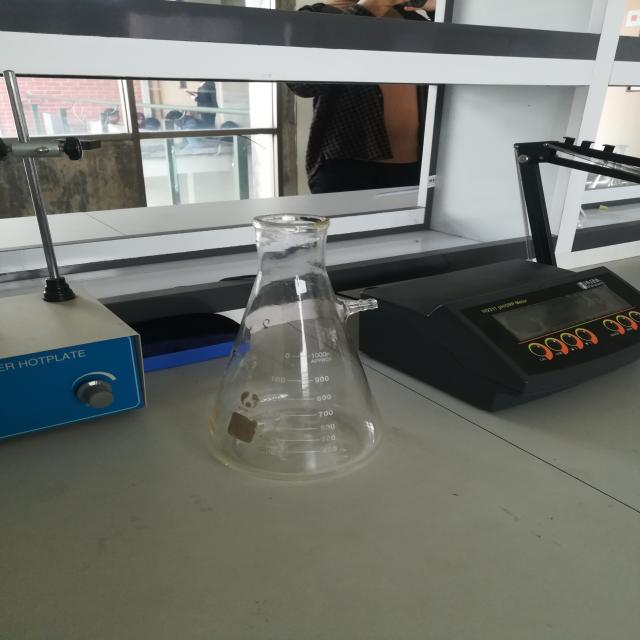Conical_Flask: (188, 131, 412, 505)
